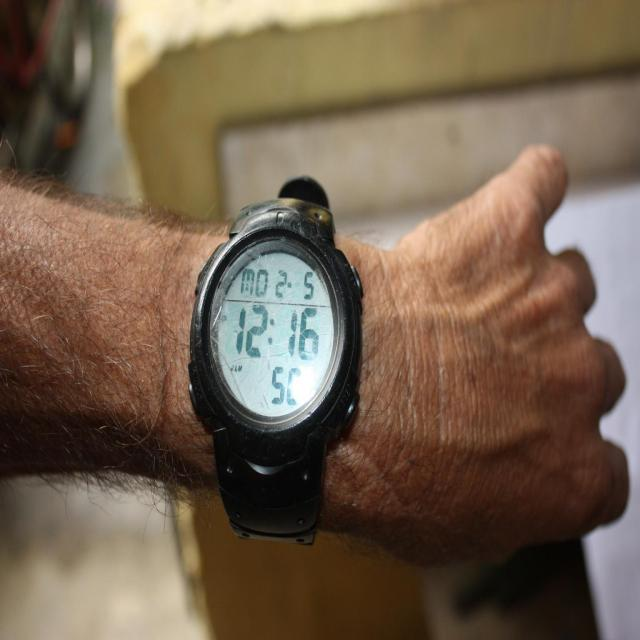Wrist watch: (187, 179, 363, 546)
